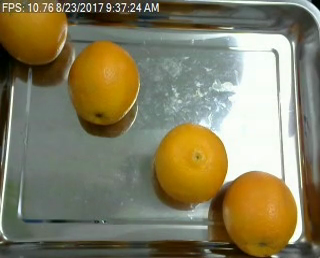Orange: (223, 169, 298, 257), (67, 39, 140, 125), (153, 123, 228, 204)
